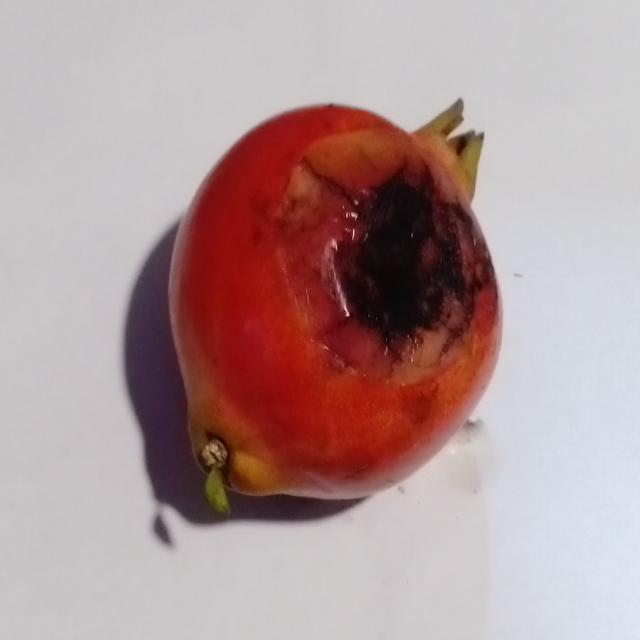Rotten: (166, 90, 512, 513)
